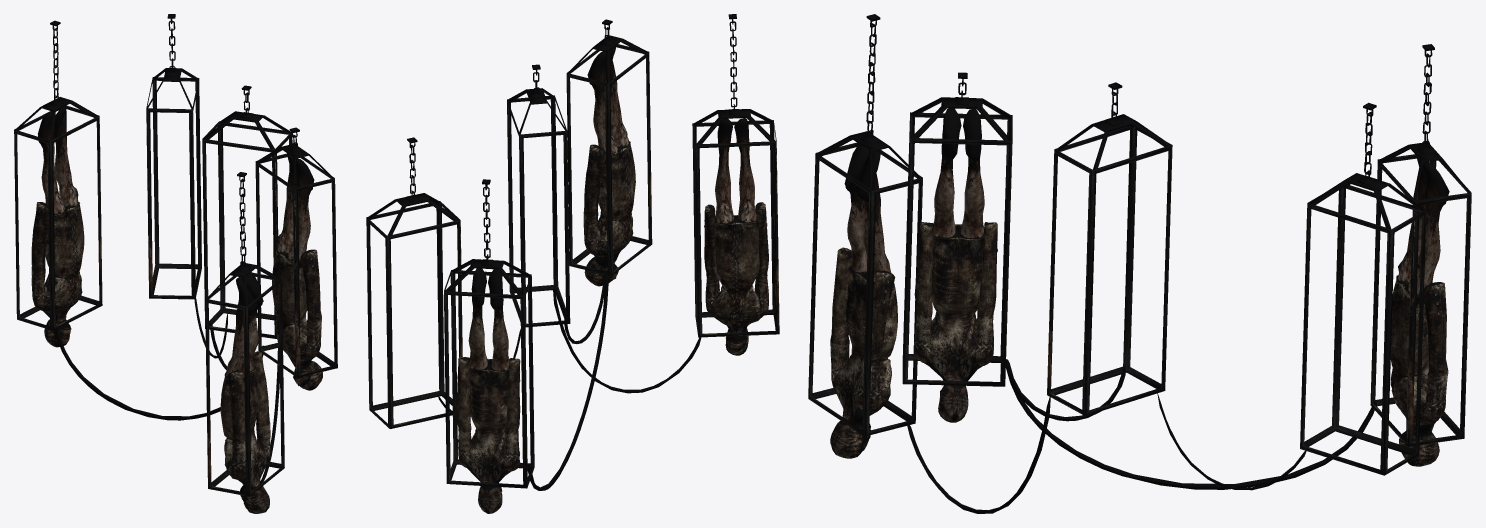
The model's file is bodies.fbx.
3 renders of one model, left to right at view 1: azimuth 30°, elevation 25°; view 2: azimuth 150°, elevation 25°; view 3: azimuth 270°, elevation 25°, orthographic. The views are drawn at different scales.
Visible parts, largest first — view 1: bodies_obj_cleaner_materialmerger_gles; view 2: bodies_obj_cleaner_materialmerger_gles; view 3: bodies_obj_cleaner_materialmerger_gles.
Part boxes in pixels (x1,y1,x2,y2): bodies_obj_cleaner_materialmerger_gles: (14, 14, 337, 513); bodies_obj_cleaner_materialmerger_gles: (366, 14, 779, 513); bodies_obj_cleaner_materialmerger_gles: (808, 14, 1471, 513).
Bounding box in the file's own units: 174 × 300 × 393.
3 materials, 3 textured.
